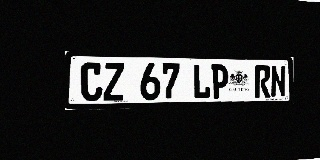6: (141, 63, 160, 100)
7: (161, 63, 180, 100)
C: (81, 62, 102, 101)
L: (193, 64, 211, 99)
N: (271, 65, 286, 98)
P: (211, 64, 228, 99)
R: (255, 65, 270, 98)
Z: (103, 62, 124, 101)
